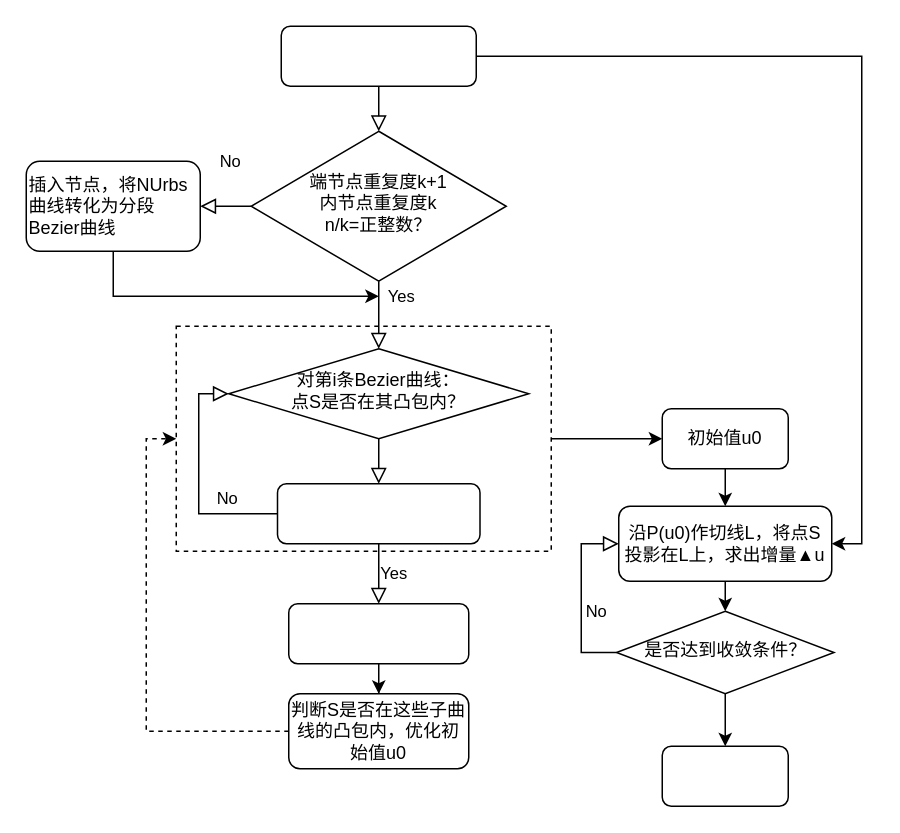
The diagram is 900 pixels wide and 833 high, and some of its shapes have lost their labels. The shapes that lost their labels are listed below. From the top down, each one's centre as x and y in pixels, then its label:
At point (378, 55): "已知：点S、 Nurbs曲线P(u)，k， n".
At point (378, 513): "用射线法判断点S是否在给定Bezier曲线的凸包内".
At point (378, 633): "分割该Bezier曲线，分割层数一般为3".
At point (724, 775): "输出结果".
